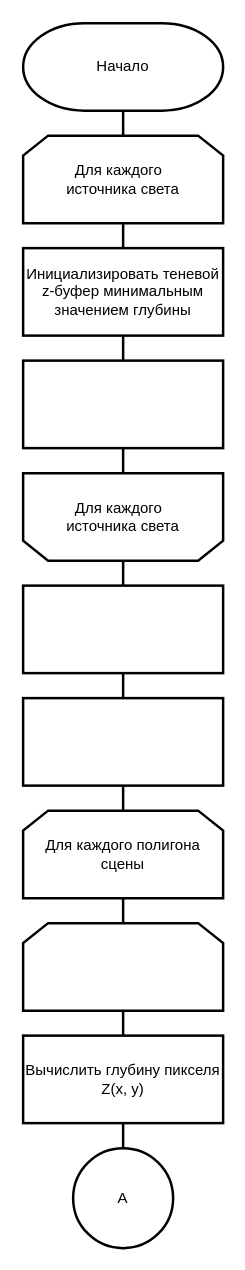
Image size: 245x1270. Some labels were removed from this diagram. The box of each missing label's shape, as (x1, y1, x2, y2) in pixels:
Всем элементам буфера кадра присвоить фоновое значение: (21, 584, 224, 674)
Для каждого пикселя текущего полигона: (21, 921, 224, 1011)
Инициализировать z-буфер минимальным значением глубины: (21, 696, 224, 786)
Определить теневой z-буфер для источника: (21, 359, 224, 449)
